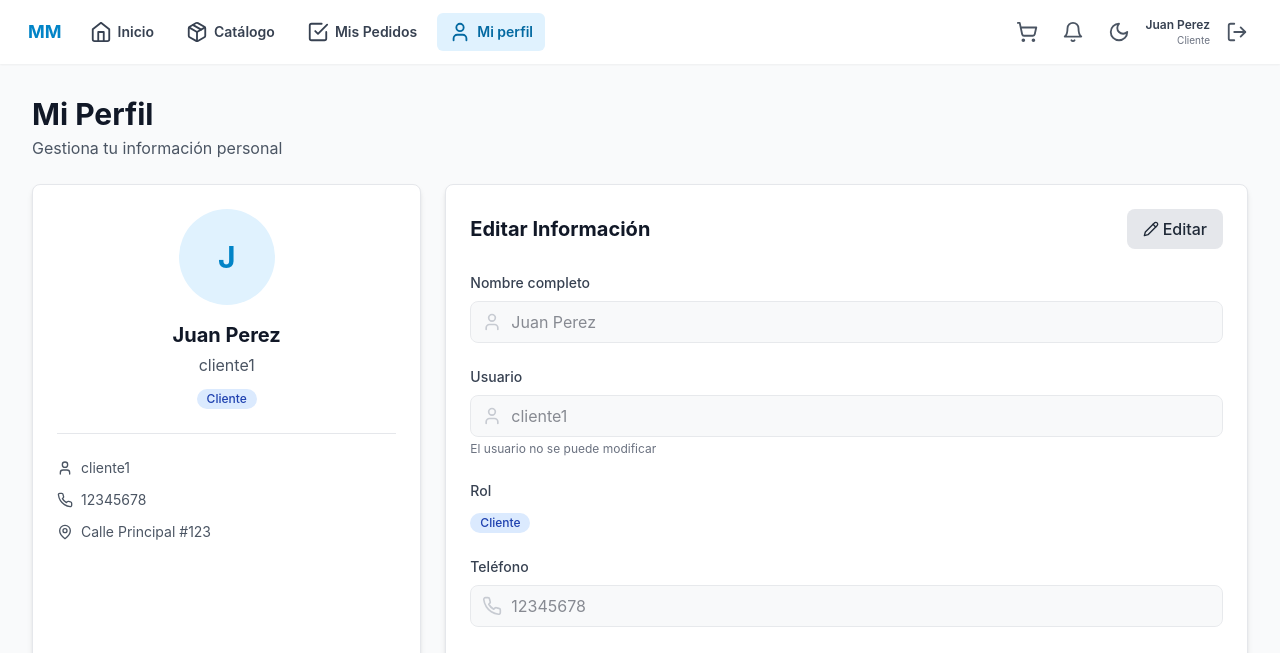
Test: P-03 - PerfilGeneral actualiza el estado del store › P-03: el formulario guarda los cambios y actualiza el store
Note: Habilitar edición
Click the button "Editar". click: (1175, 229)
box: 1127,209 -> 1223,249
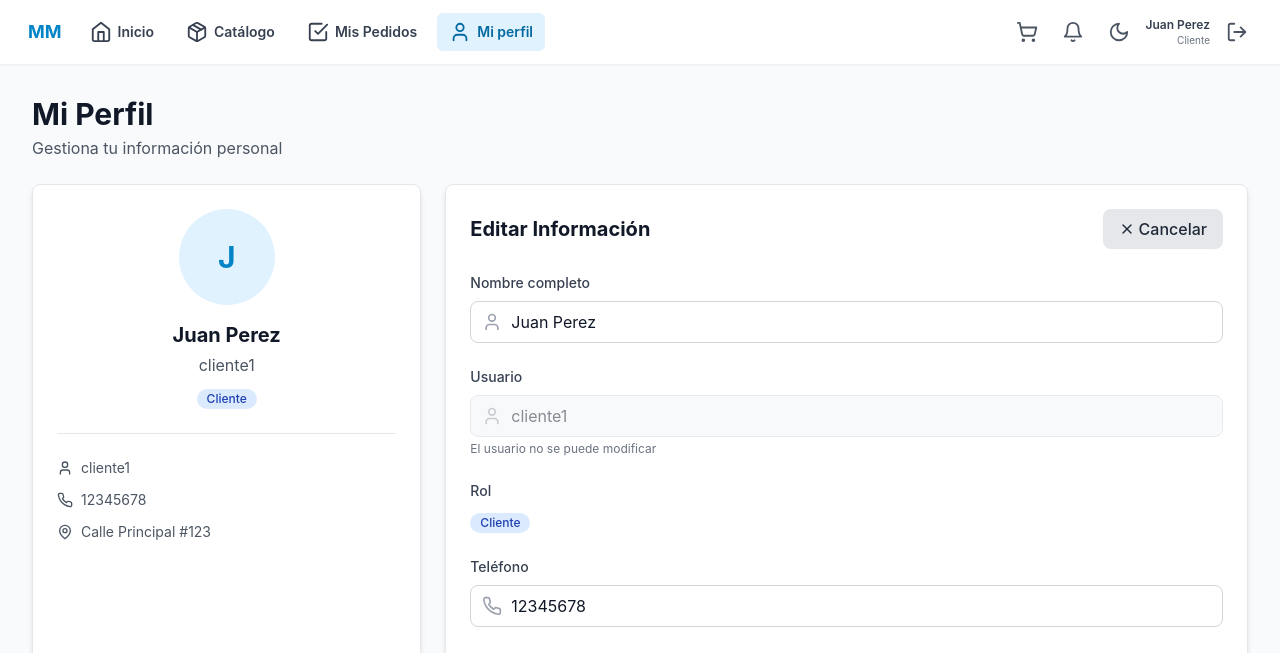
Replace the text in the field labelled "Nombre completo" with "Juan Carlos Perez". click: (847, 322)
box: 470,301 -> 1223,343
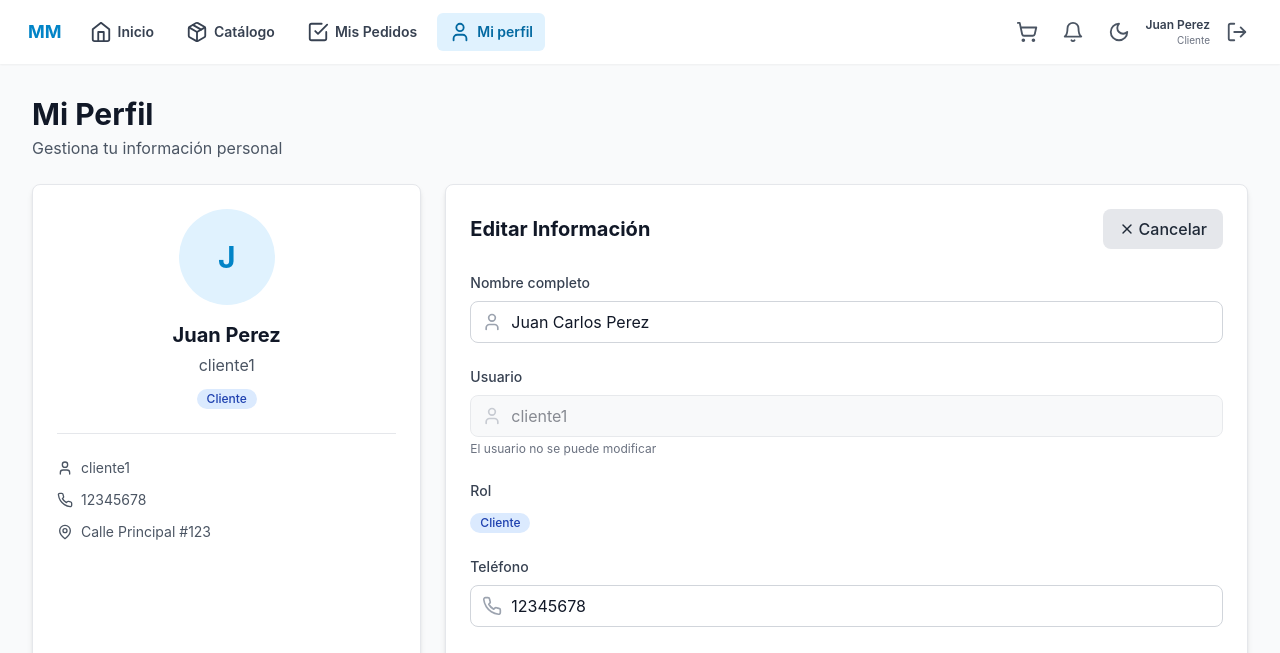
Type "99988877" into the field labelled "Teléfono". click: (847, 606)
box: 470,585 -> 1223,627
(page scrolled)
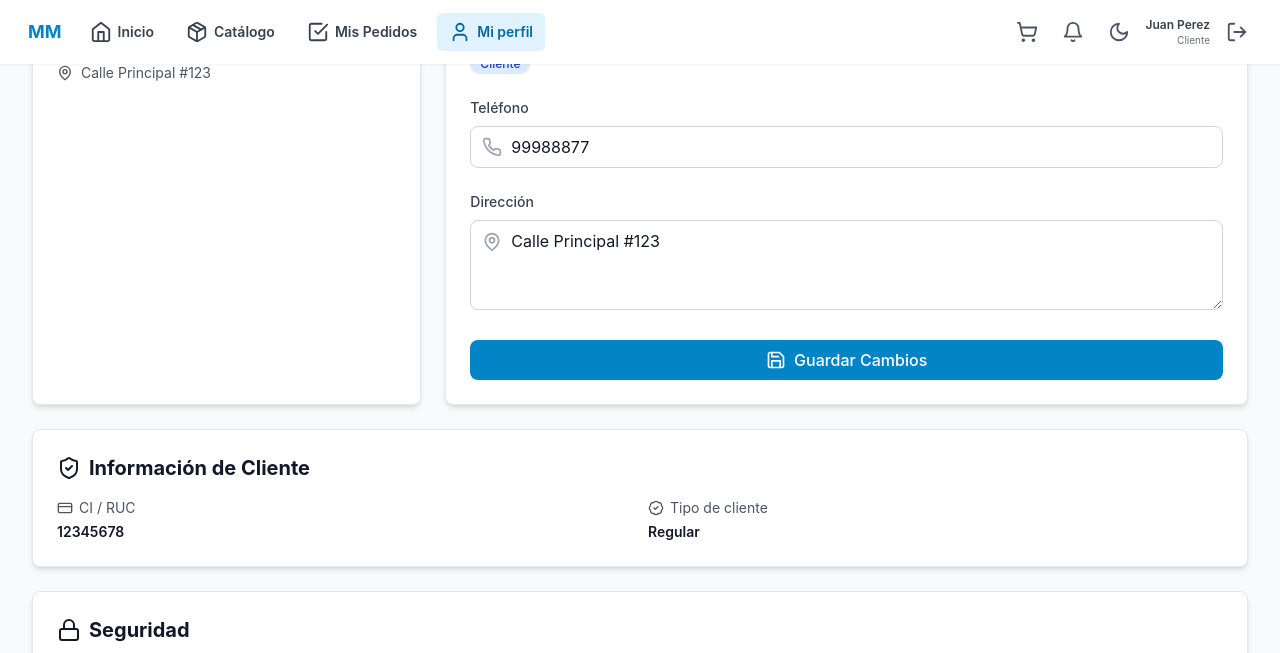
Click the button "Guardar Cambios". click: (847, 360)
box: 470,340 -> 1223,380
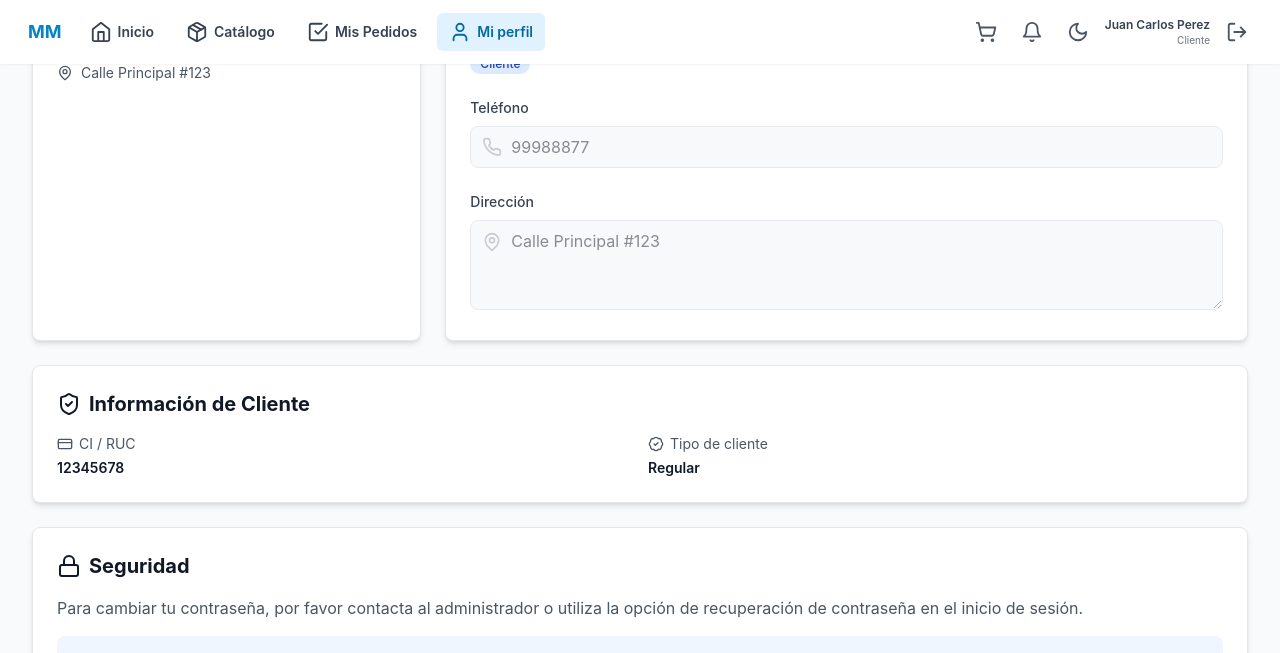
Expected: the text "Calle Principal #123" is shown, 81,63 -> 211,83
Expected: the text "Juan Carlos Perez" is shown, 1105,16 -> 1210,32
